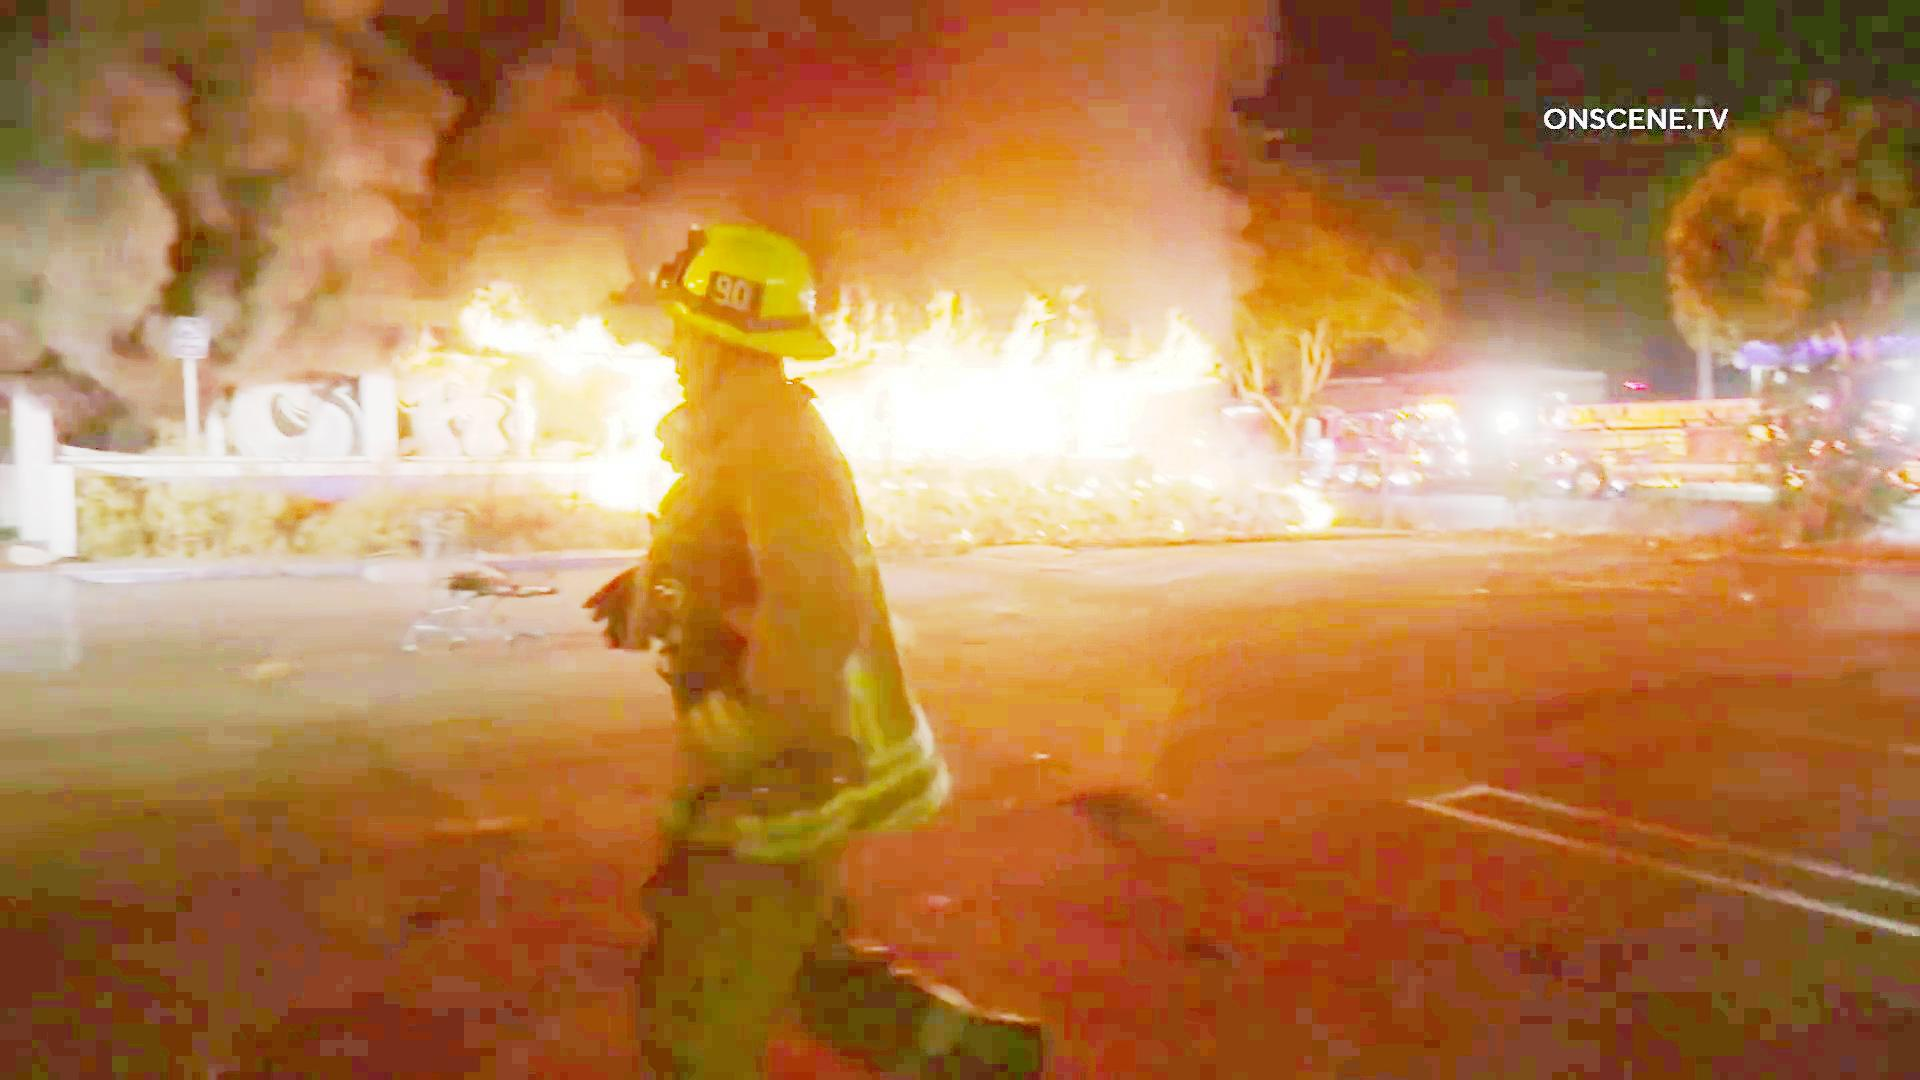fire: (857, 293, 1211, 483), (481, 320, 651, 522)
smoke: (16, 13, 1146, 227)
